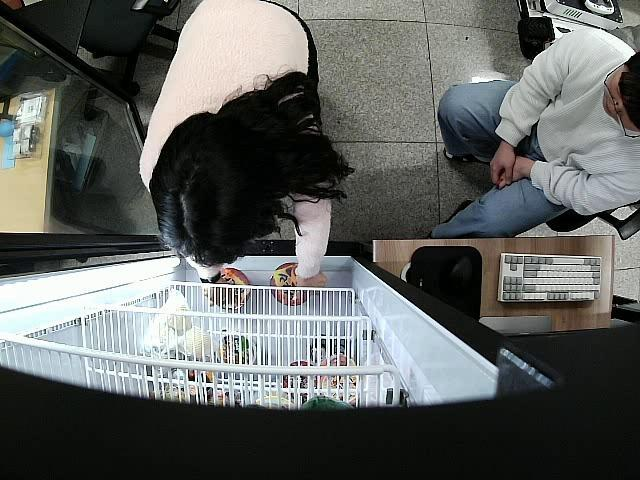05_nuguri_L: (214, 268, 254, 313), (270, 262, 310, 306)
